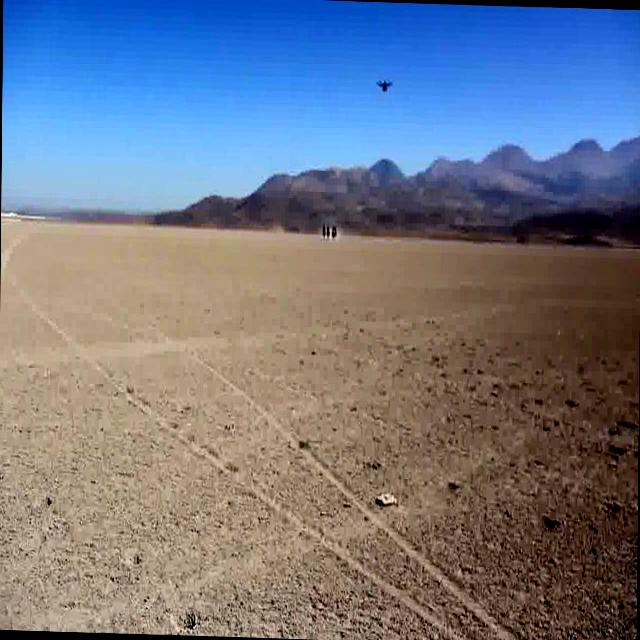drone: (379, 75, 395, 96)
